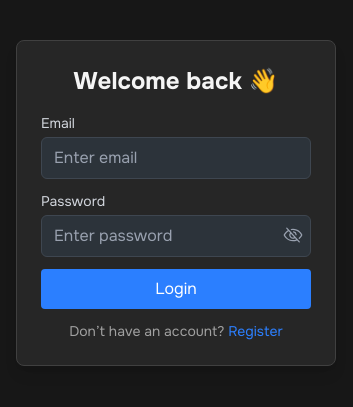
Scenario: User Registration and Login Flow › Login Form › shows validation errors for empty fields
Click the button with test id "login-button": click(176, 289) [41, 269, 311, 309]
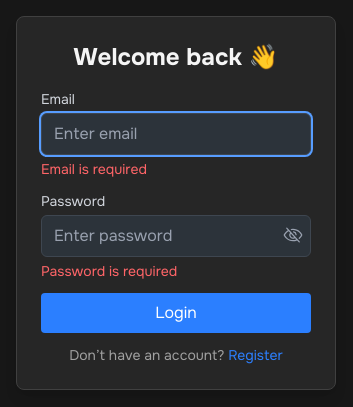
Result: the text "Email is required" is shown at [41, 160, 147, 178]
Result: the text "Password is required" is shown at [41, 262, 177, 280]
